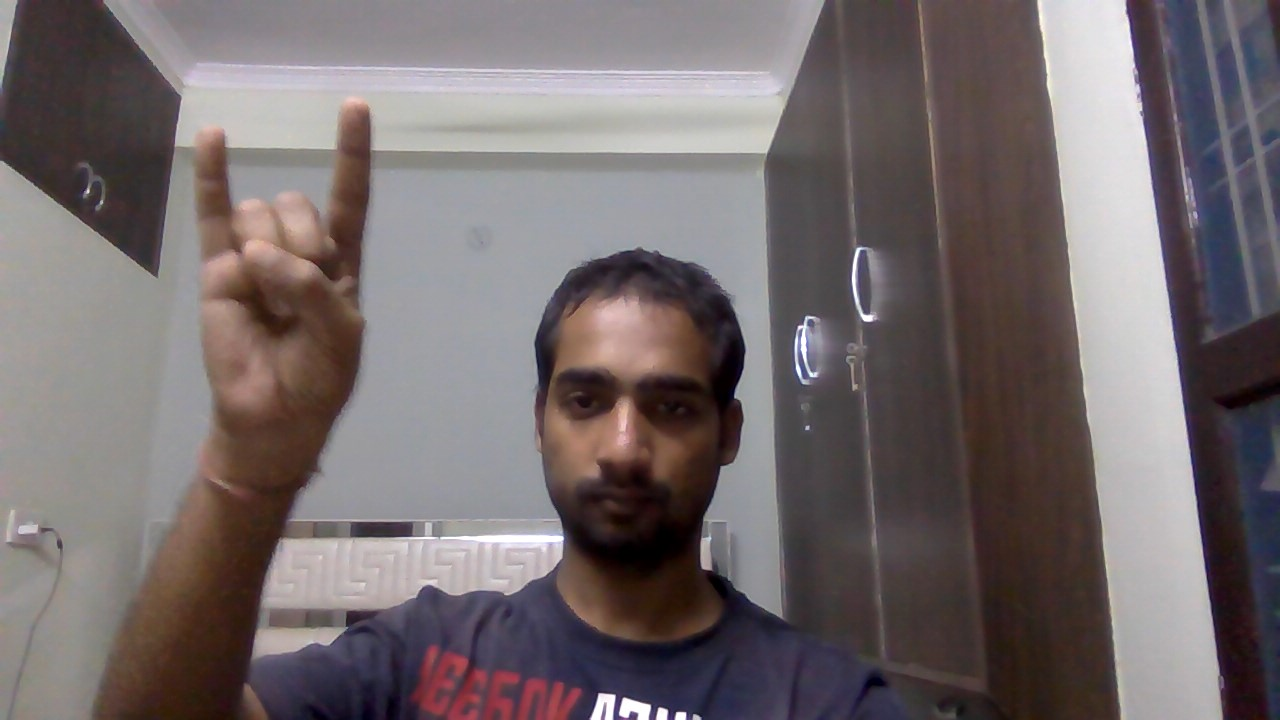Select All: (178, 86, 407, 443)
